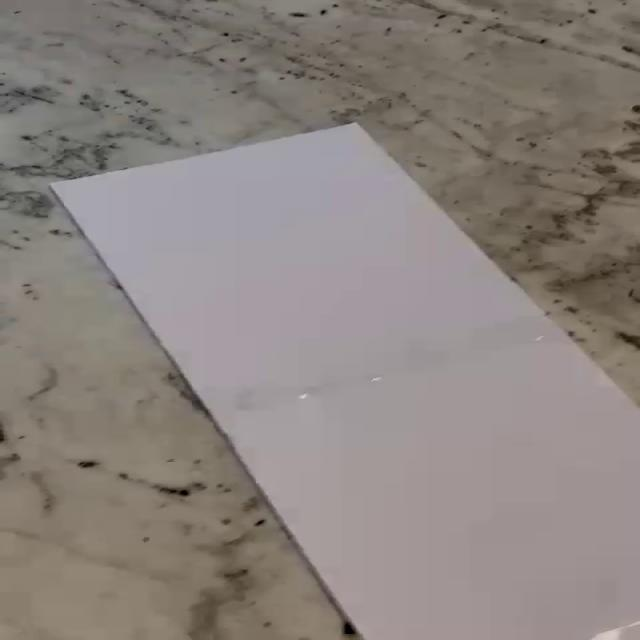road: (48, 124, 640, 640)
